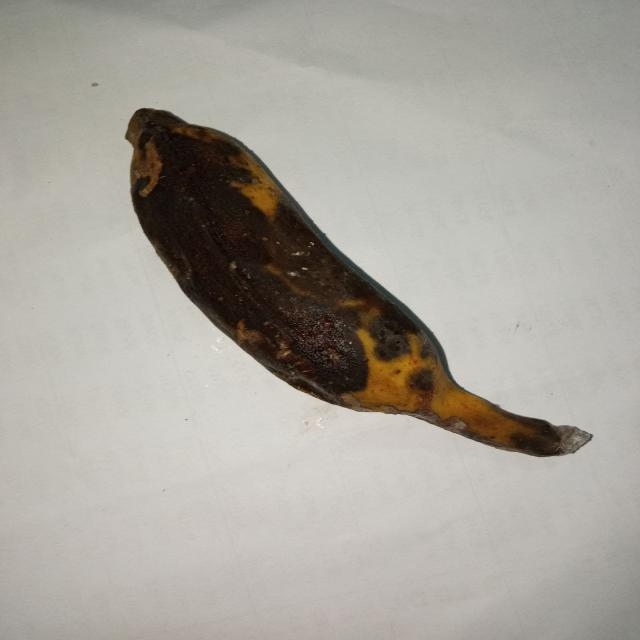rotten_banana: (121, 108, 574, 464)
